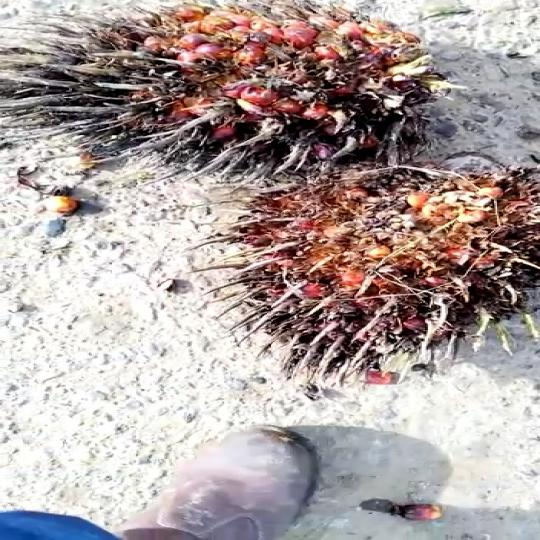terlalu masak: (0, 4, 448, 171), (220, 149, 540, 381)
